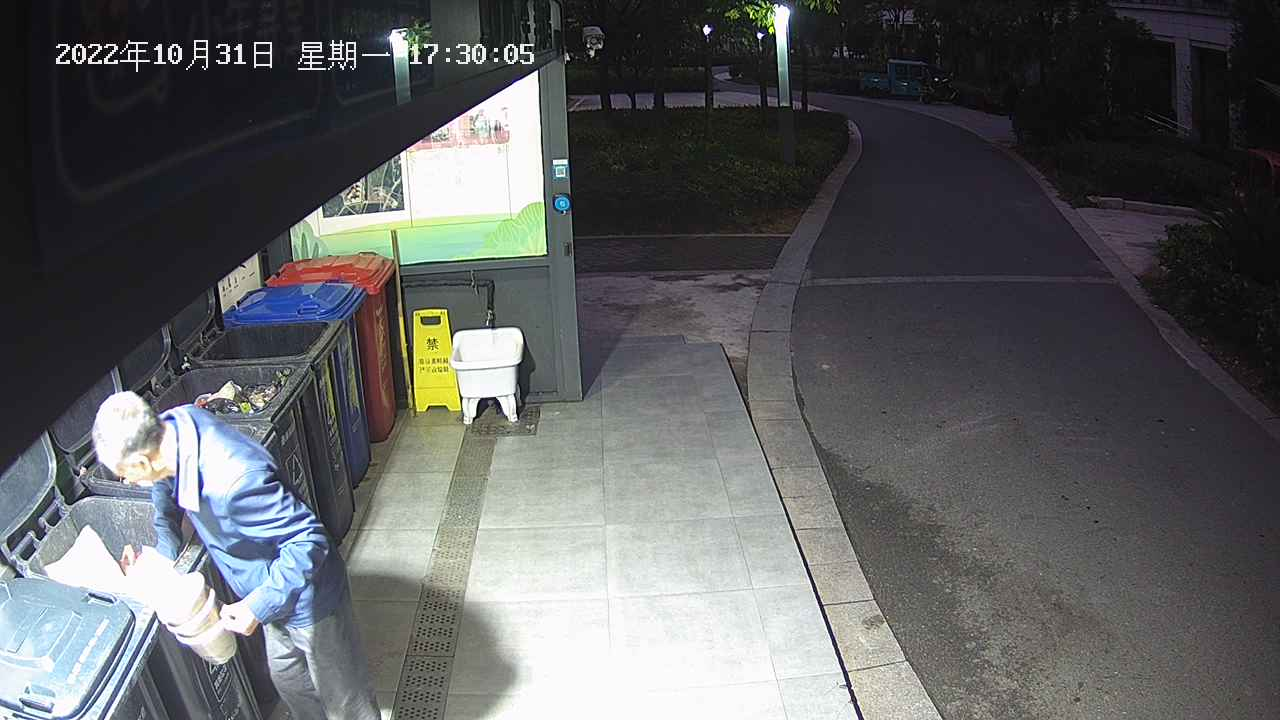suliaozhipin: (150, 569, 239, 665)
worker: (89, 388, 385, 720)
